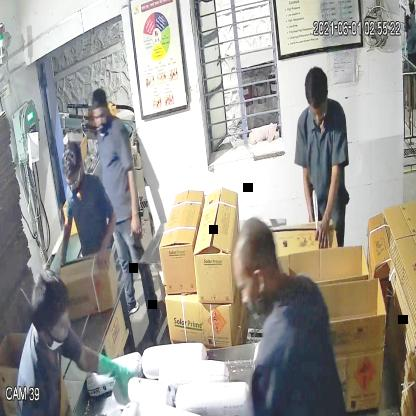goggles: (64, 168, 84, 194)
